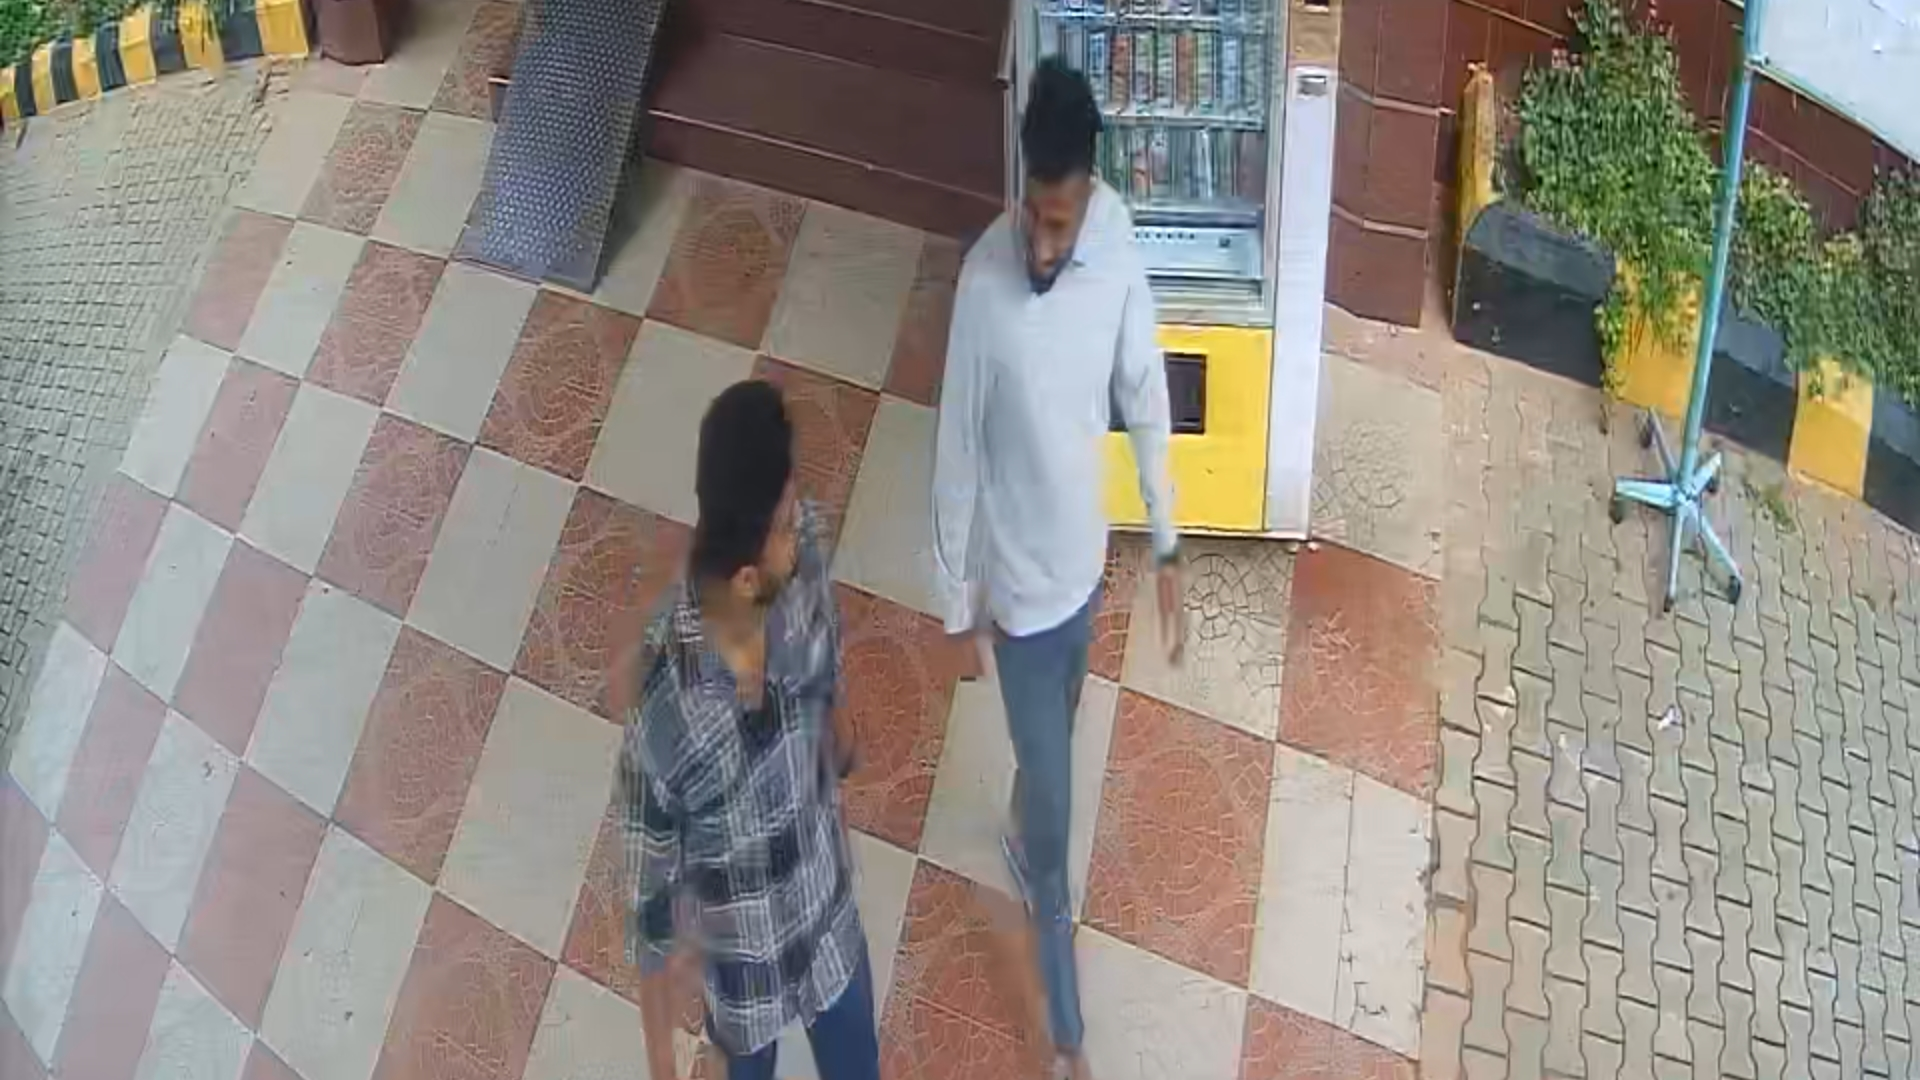intruder: (939, 47, 1188, 1080), (616, 355, 923, 1080)
